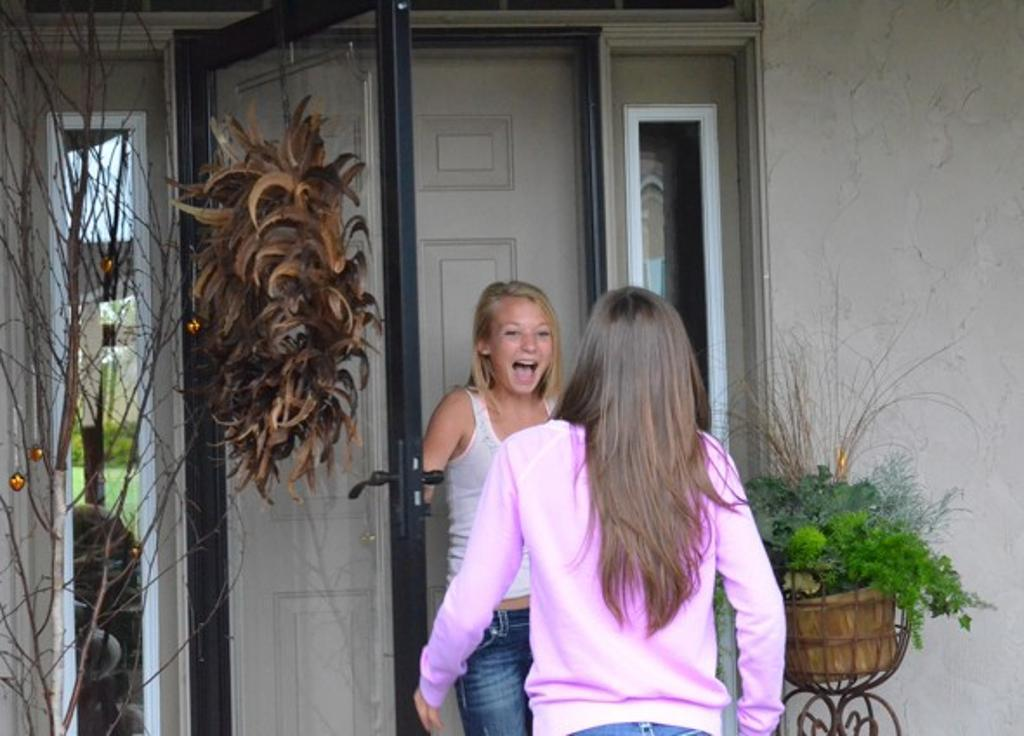face: (491, 295, 555, 395)
